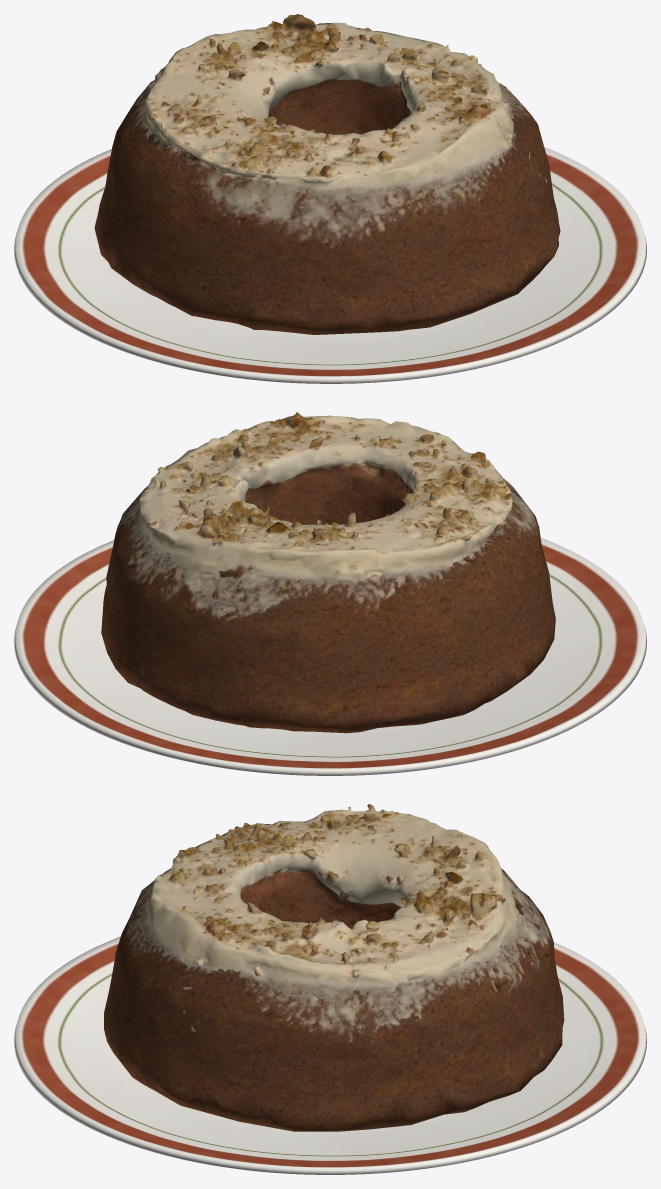
Rendered from torta-di-carote.glb.
3 views of the same model, one above another, from view 1: azimuth 30°, elevation 25°; view 2: azimuth 150°, elevation 25°; view 3: azimuth 270°, elevation 25° (orthographic).
Visible parts, largest first — view 1: carrot_cake, Prato; view 2: carrot_cake, Prato; view 3: carrot_cake, Prato.
Boxes of the visible parts, left/top/right/bottom form: carrot_cake: left=94, top=14, right=560, bottom=334; Prato: left=14, top=147, right=646, bottom=383; carrot_cake: left=101, top=412, right=555, bottom=733; Prato: left=14, top=538, right=646, bottom=775; carrot_cake: left=104, top=804, right=564, bottom=1131; Prato: left=14, top=936, right=646, bottom=1174.
Bounding box in the file's own units: 0.31 × 0.1081 × 0.31.
Materials: 2 (2 with a texture image).
